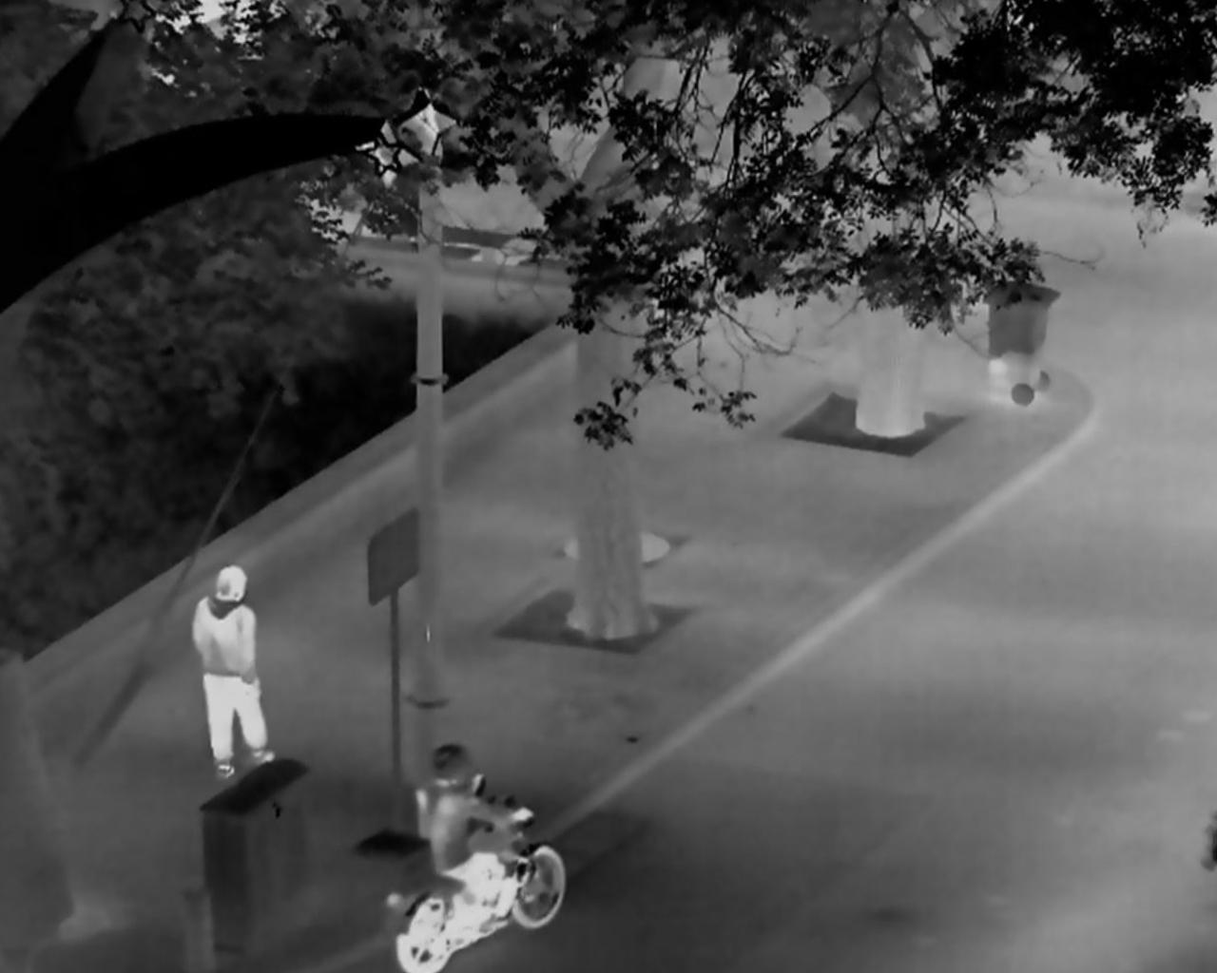person: (411, 741, 536, 920), (188, 564, 279, 780)
